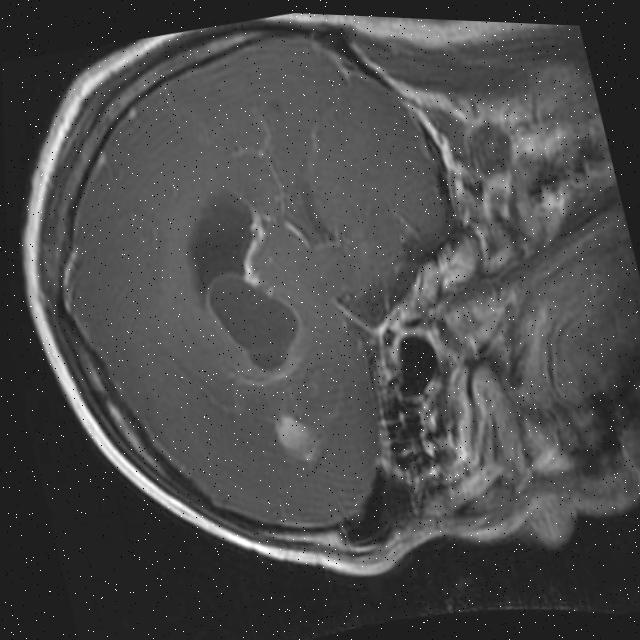Glioma: (265, 405, 322, 468)
